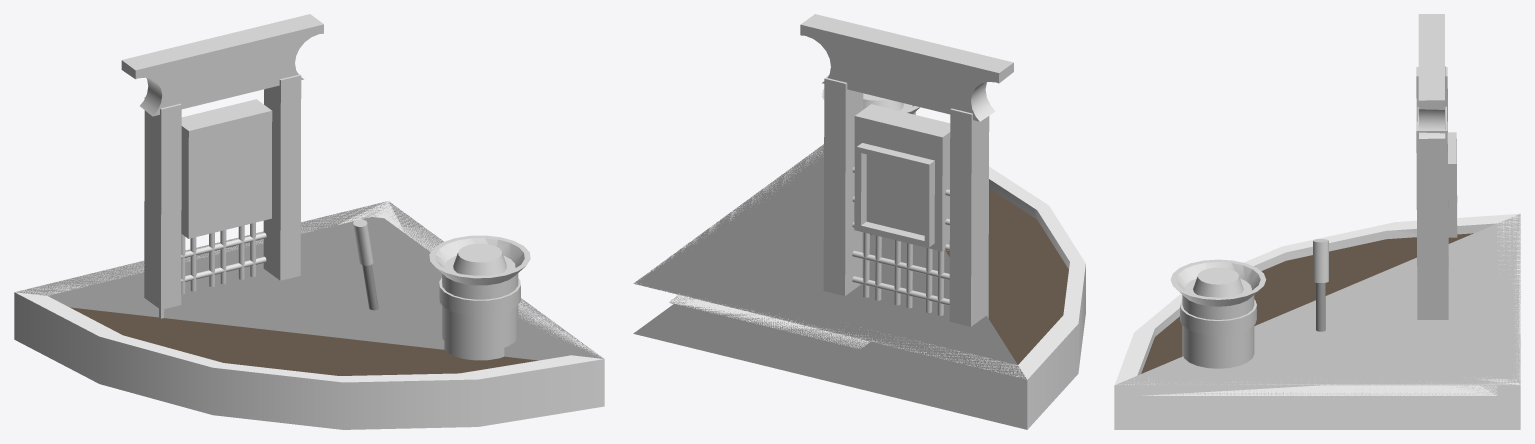
File: noticeboard.fbx
The picture shows the model from 3 angles, left to right: view 1: azimuth 30°, elevation 25°; view 2: azimuth 150°, elevation 25°; view 3: azimuth 270°, elevation 25°; orthographic projection. The views are drawn at different scales.
Parts seen in each view (by area): view 1: gardenIn1, sign, gardenOut1, pCylinder15, pCylinder18, pCylinder20, pCylinder19, pCylinder22; view 2: gardenIn1, sign, gardenOut1; view 3: gardenIn1, sign, gardenOut1, pCylinder15, pCylinder18, pCylinder20, pCylinder19, pCylinder22, pCylinder21.
Part boxes in pixels (<box>): gardenIn1: <box>14,201,604,429</box>; sign: <box>121,14,323,318</box>; gardenOut1: <box>70,307,538,375</box>; pCylinder15: <box>442,273,518,360</box>; pCylinder18: <box>429,235,530,285</box>; pCylinder20: <box>439,278,520,316</box>; pCylinder19: <box>453,243,506,275</box>; pCylinder22: <box>353,219,373,265</box>; gardenIn1: <box>633,144,1085,429</box>; sign: <box>800,14,1013,326</box>; gardenOut1: <box>945,188,1068,364</box>; gardenIn1: <box>1114,213,1520,429</box>; sign: <box>1416,14,1457,319</box>; gardenOut1: <box>1141,233,1473,373</box>; pCylinder15: <box>1182,295,1254,368</box>; pCylinder18: <box>1170,259,1266,306</box>; pCylinder20: <box>1180,299,1256,335</box>; pCylinder19: <box>1193,267,1243,297</box>; pCylinder22: <box>1313,239,1328,282</box>; pCylinder21: <box>1316,283,1325,331</box>.
Bounding box in the file's own units: 21.5 × 16.5 × 21.5.
